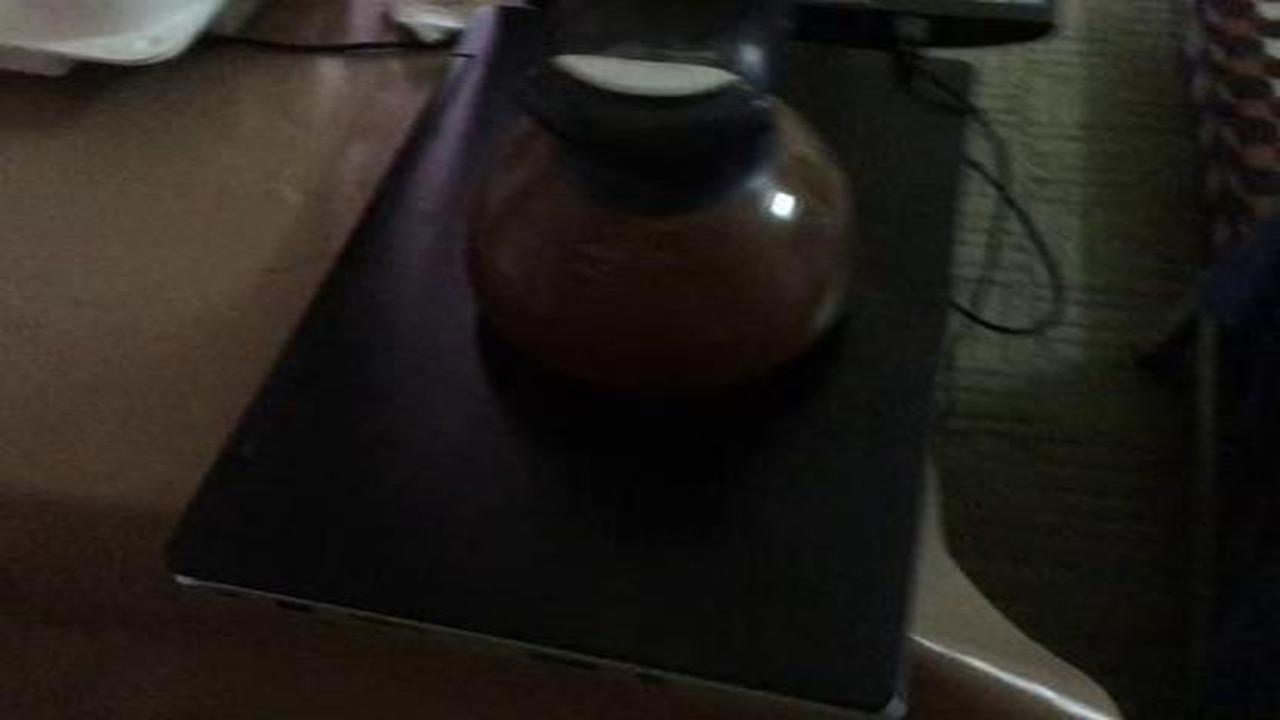insulator_pin: (434, 15, 862, 411)
